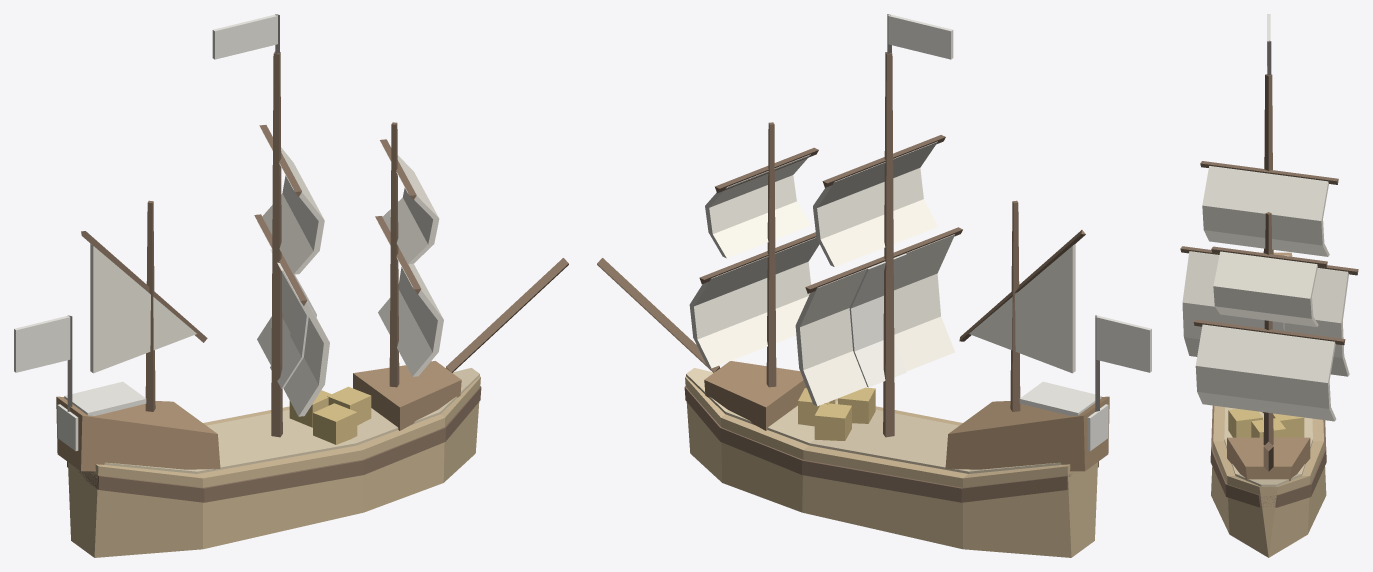
The model's file is trader.glb.
The picture shows the model from 3 angles, left to right: view 1: azimuth 30°, elevation 25°; view 2: azimuth 150°, elevation 25°; view 3: azimuth 270°, elevation 25°; orthographic projection. The views are drawn at different scales.
Visible parts, largest first — view 1: gunpowder_trader; view 2: gunpowder_trader; view 3: gunpowder_trader.
Boxes of the visible parts, x1,y1,x2,y2 form: gunpowder_trader: (14,14,568,557); gunpowder_trader: (597,14,1151,557); gunpowder_trader: (1180,14,1358,557).
Size of the model in its own units: 0.9995 by 0.8397 by 0.3149.
